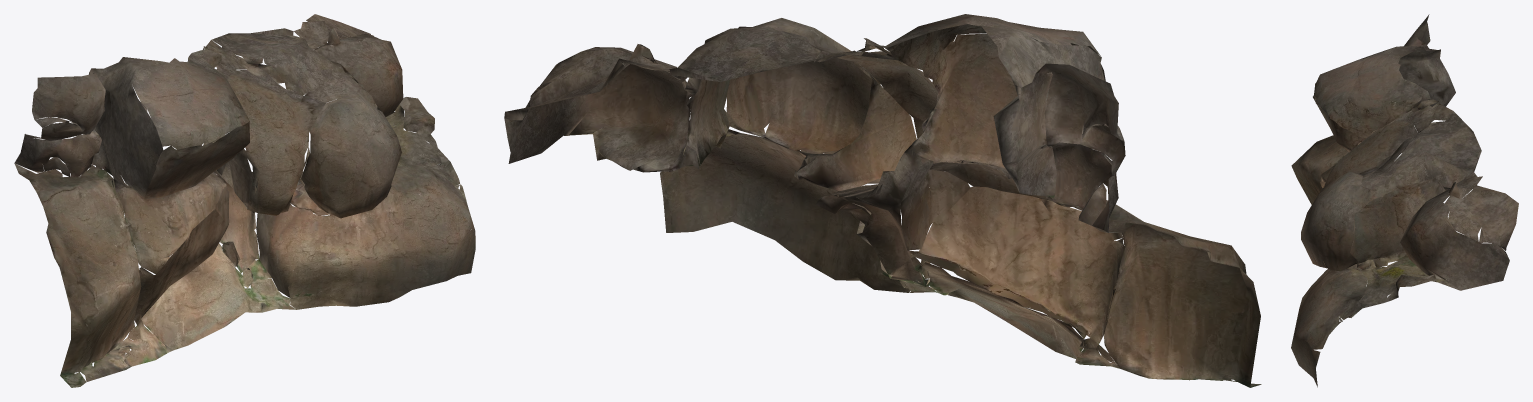
The model's file is cliff-a.glb.
The picture shows the model from 3 angles, left to right: view 1: azimuth 30°, elevation 25°; view 2: azimuth 150°, elevation 25°; view 3: azimuth 270°, elevation 25°; orthographic projection. The views are drawn at different scales.
Parts seen in each view (by area): view 1: drone_rock_01; view 2: drone_rock_01; view 3: drone_rock_01.
Boxes of the visible parts, left/top/right/bottom form: drone_rock_01: left=14, top=14, right=475, bottom=387; drone_rock_01: left=504, top=14, right=1261, bottom=387; drone_rock_01: left=1291, top=14, right=1518, bottom=387.
Bounding box in the file's own units: 8.28 × 4.88 × 4.4.
1 material, 1 textured.
